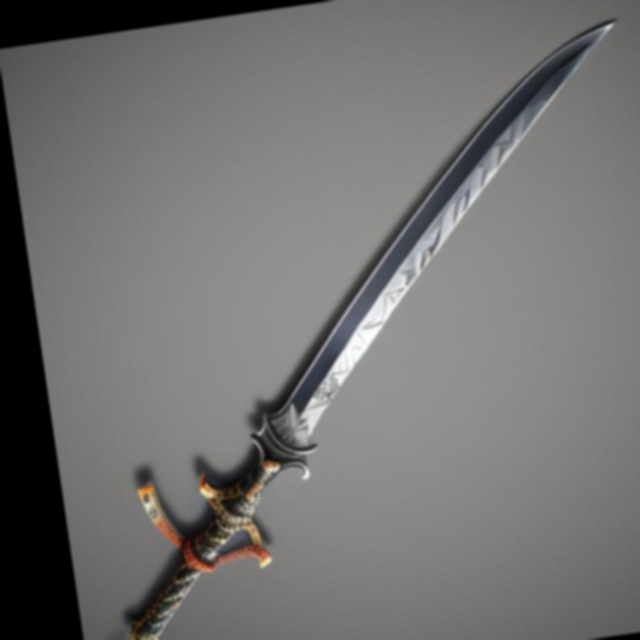Sharp-Object: (24, 16, 640, 640)
